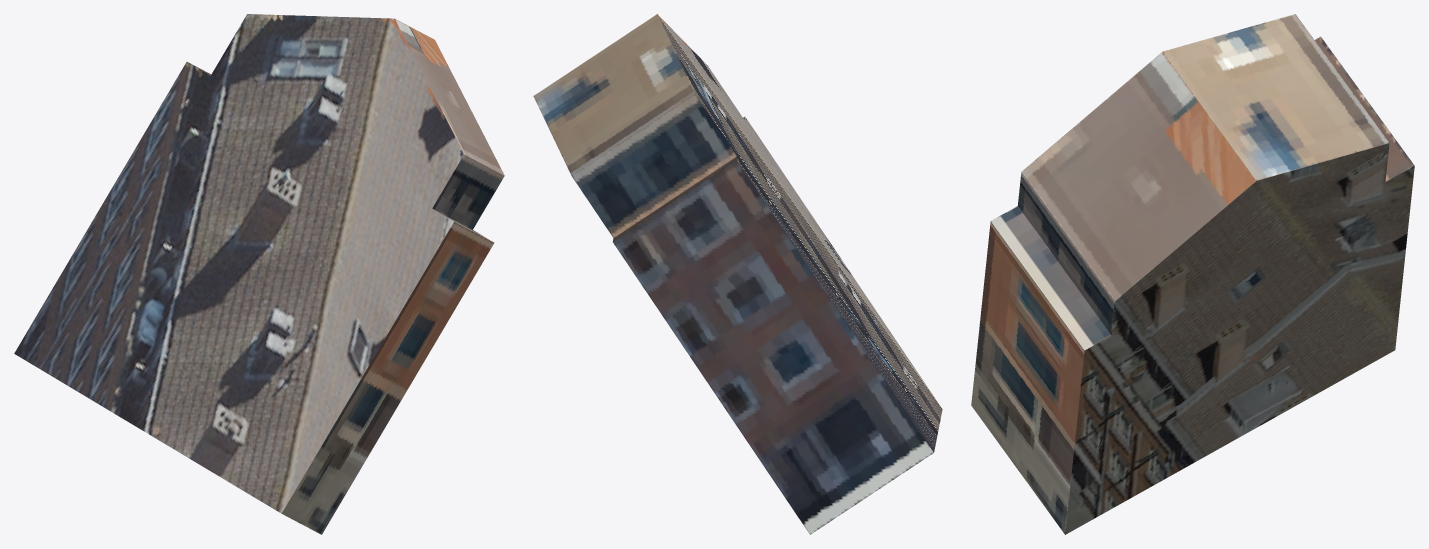
3 views of the same model, side by side, from view 1: azimuth 30°, elevation 25°; view 2: azimuth 150°, elevation 25°; view 3: azimuth 270°, elevation 25° (orthographic). The views are drawn at different scales.
Parts seen in each view (by area): view 1: BAG_0599100000650053; view 2: BAG_0599100000650053 (×2); view 3: BAG_0599100000650053 (×3).
Boxes of the visible parts, left/top/right/bottom form: BAG_0599100000650053: left=14, top=14, right=504, bottom=534; BAG_0599100000650053 (×2): left=533, top=14, right=942, bottom=534; BAG_0599100000650053 (×3): left=971, top=14, right=1414, bottom=534.
Size of the model in its own units: 17.63 by 18.73 by 13.7.
1 material, 1 textured.
